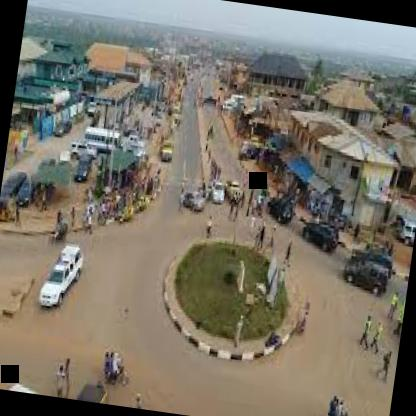car: (30, 238, 88, 322), (331, 234, 398, 306), (209, 160, 254, 214), (298, 212, 348, 259), (264, 186, 302, 232), (176, 182, 213, 228), (0, 164, 31, 214), (84, 122, 123, 158), (198, 168, 228, 210), (156, 126, 178, 168)
